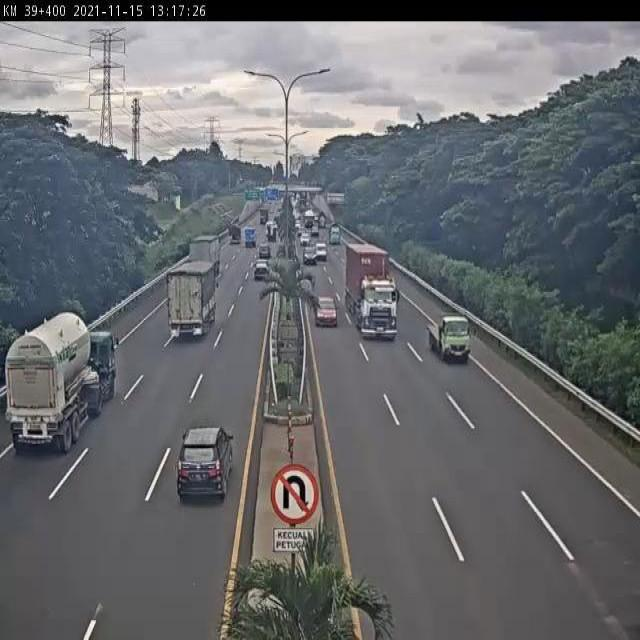car: (176, 427, 231, 502), (315, 297, 338, 327), (254, 260, 270, 281)
truck-m-: (168, 260, 216, 340), (190, 236, 222, 277)
truck-s-: (426, 315, 472, 360)
truck-xl-: (5, 312, 118, 448), (345, 244, 397, 339)
